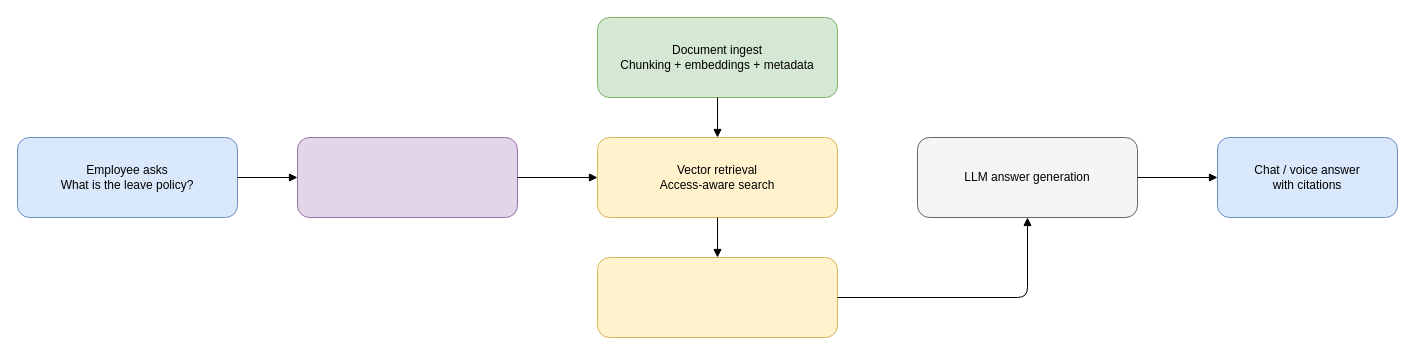
Image size: 1415x355. Some labels were removed from this diagram. The shapes that lost their labels are listed below. From the top down, each one's centre as x and y in pixels, then its label:
point (407, 177): Runtime + identity + access scope
point (717, 297): Context builder + citations
